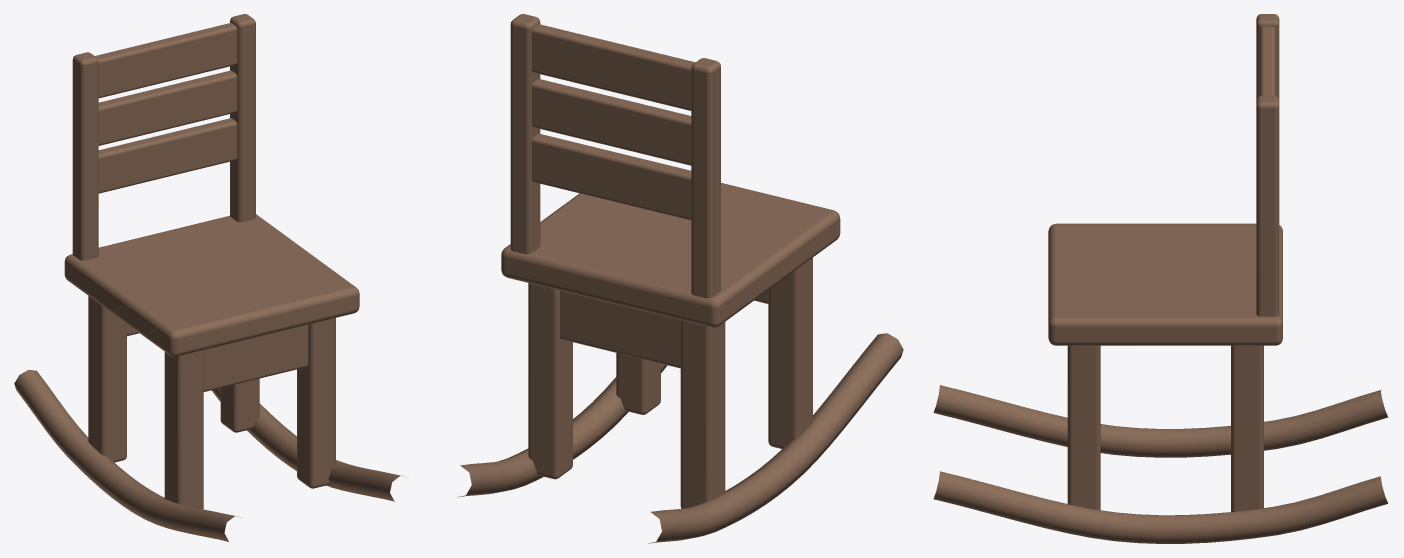
The model's file is paranormal-investigation-house-rocking-chair-85d96825__26737.glb.
3 views of the same model, side by side, from view 1: azimuth 30°, elevation 25°; view 2: azimuth 150°, elevation 25°; view 3: azimuth 270°, elevation 25° (orthographic). The views are drawn at different scales.
Parts seen in each view (by area): view 1: rocking-chair; view 2: rocking-chair; view 3: rocking-chair.
Boxes of the visible parts, x1,y1,x2,y2 form: rocking-chair: (14, 14, 405, 541); rocking-chair: (457, 14, 903, 543); rocking-chair: (933, 14, 1388, 543).
Size of the model in its own units: 0.46 by 0.9562 by 0.8962.
